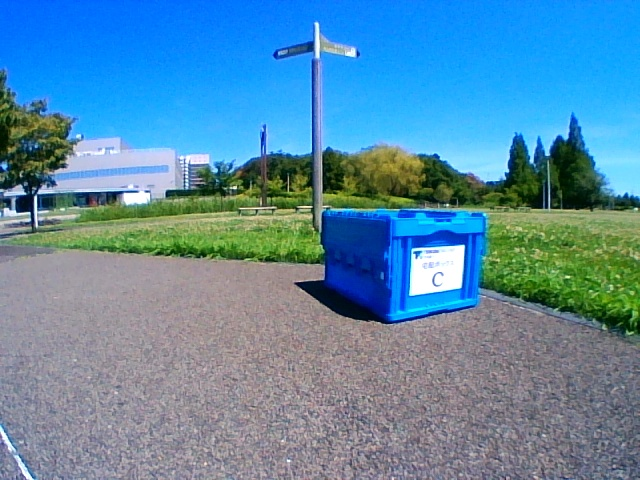blue_box: (322, 208, 487, 322)
tag_c: (415, 249, 459, 289)
